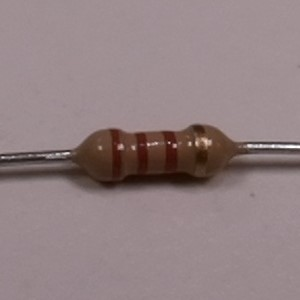gold_band: (188, 121, 211, 182)
red_band: (107, 127, 124, 185), (160, 128, 179, 178), (132, 129, 150, 179)
